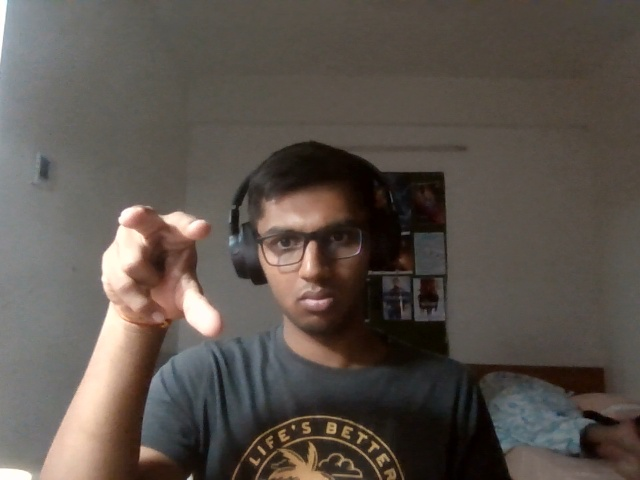no: (91, 196, 225, 346)
